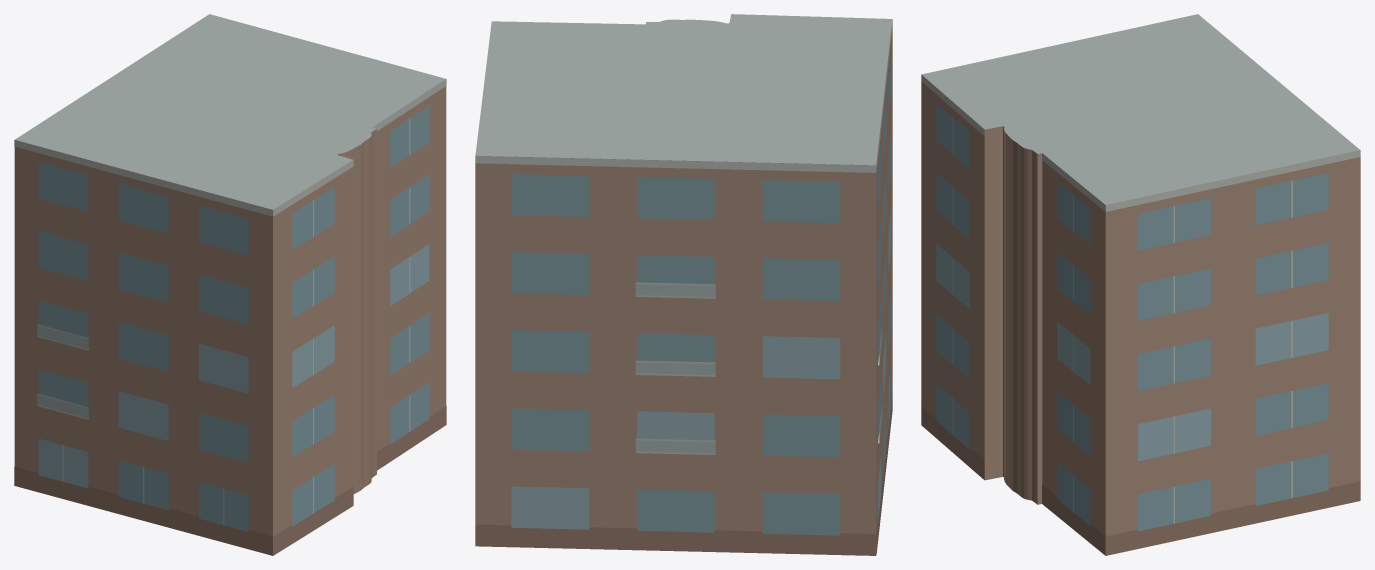
Rendered from survey-upis-33035938.glb.
The picture shows the model from 3 angles, left to right: view 1: azimuth 30°, elevation 25°; view 2: azimuth 150°, elevation 25°; view 3: azimuth 270°, elevation 25°; orthographic projection. The views are drawn at different scales.
Parts seen in each view (by area): view 1: survey-upis-33035938.tmp; view 2: survey-upis-33035938.tmp; view 3: survey-upis-33035938.tmp.
Boxes of the visible parts, x1,y1,x2,y2 form: survey-upis-33035938.tmp: (14,14,446,555); survey-upis-33035938.tmp: (475,14,892,555); survey-upis-33035938.tmp: (921,14,1360,555).
Bounding box in the file's own units: 14.62 × 12.5 × 14.19.
